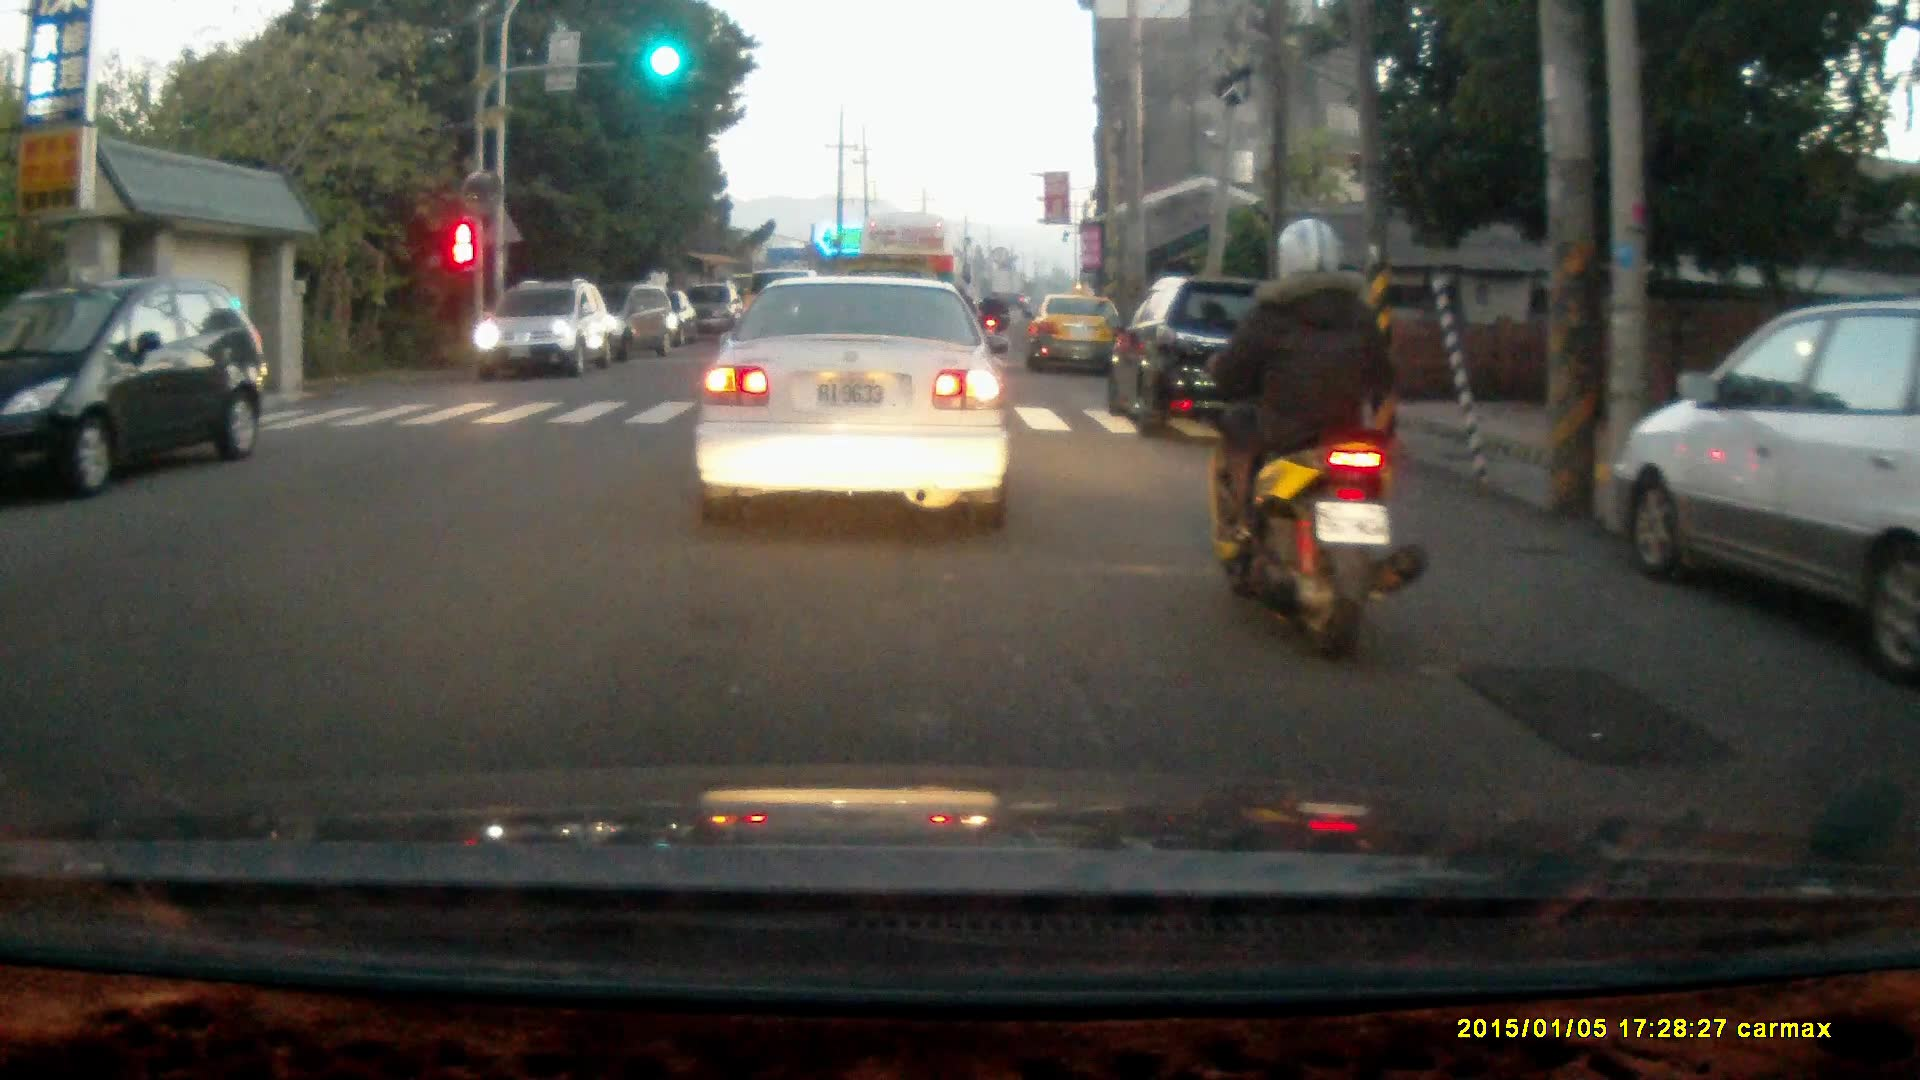rider: (1195, 213, 1425, 665)
vehicle: (1621, 296, 1920, 657), (690, 268, 1014, 532), (1, 277, 265, 510), (1100, 276, 1327, 446), (859, 209, 961, 362), (474, 282, 613, 382), (559, 279, 679, 363), (1026, 291, 1127, 379)
